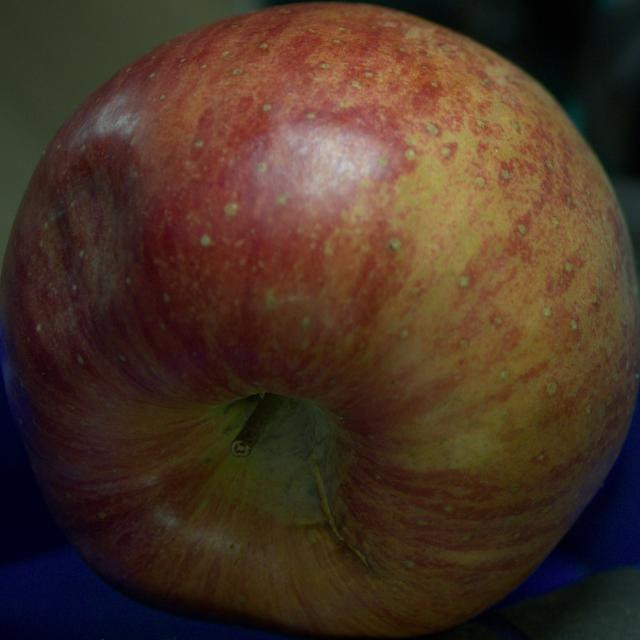apple: (0, 4, 639, 636)
bruise: (16, 138, 152, 347)
scratch: (312, 454, 368, 568)
